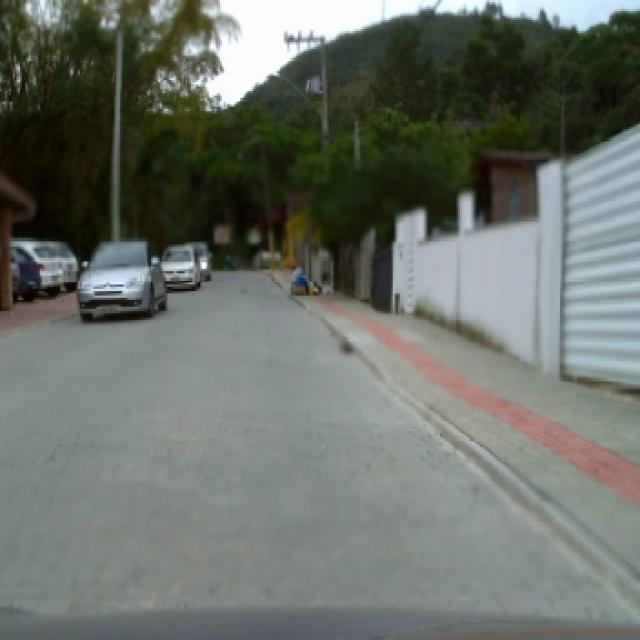Poth-hole: (336, 336, 353, 354)
